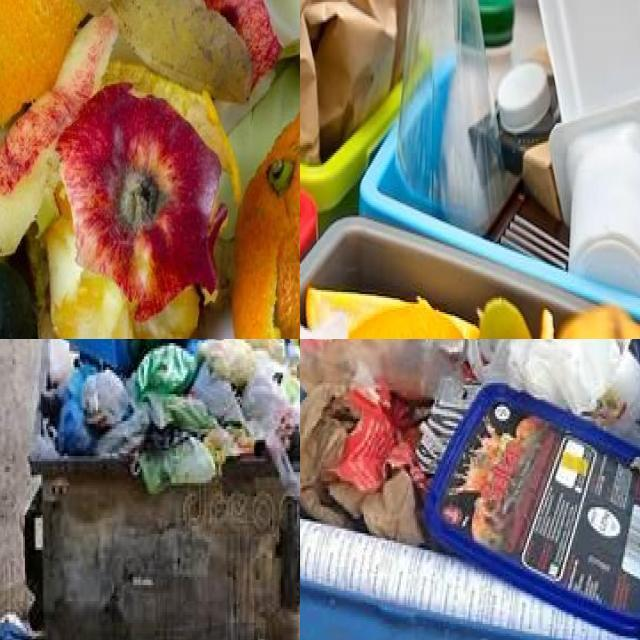Garbage: (300, 0, 640, 339), (300, 339, 640, 640), (56, 339, 300, 499)
Plastic: (499, 65, 550, 133)
Plastic_Bag: (242, 348, 300, 499), (65, 339, 201, 372), (140, 437, 216, 494), (191, 362, 245, 425), (133, 344, 198, 396), (84, 368, 132, 433), (147, 393, 218, 435), (198, 339, 254, 391), (164, 437, 216, 486), (57, 397, 96, 456), (243, 339, 285, 362)
Plastic_Container: (423, 380, 640, 637), (539, 0, 640, 294)
Plastic_bottle: (397, 0, 505, 231), (300, 339, 470, 405), (478, 0, 515, 98)
Plastic_wraper: (334, 384, 419, 495)
